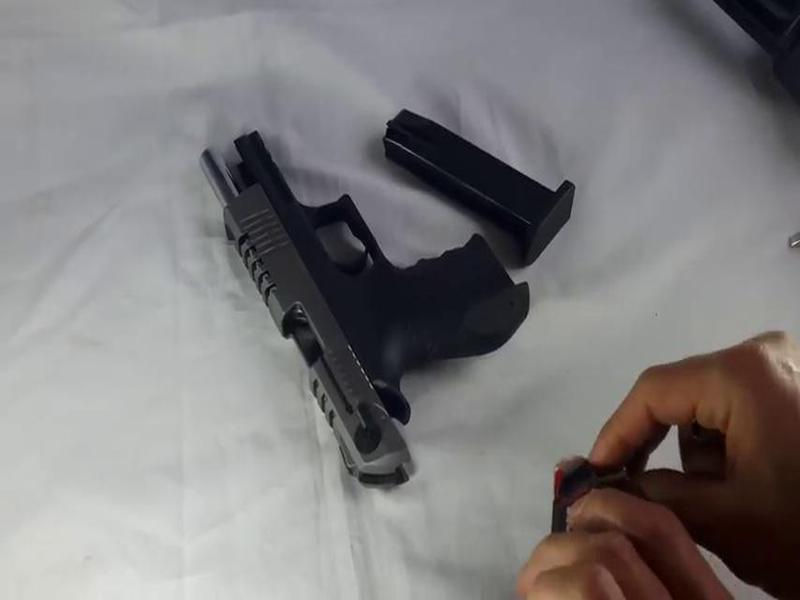Pistola: (193, 115, 547, 493)
